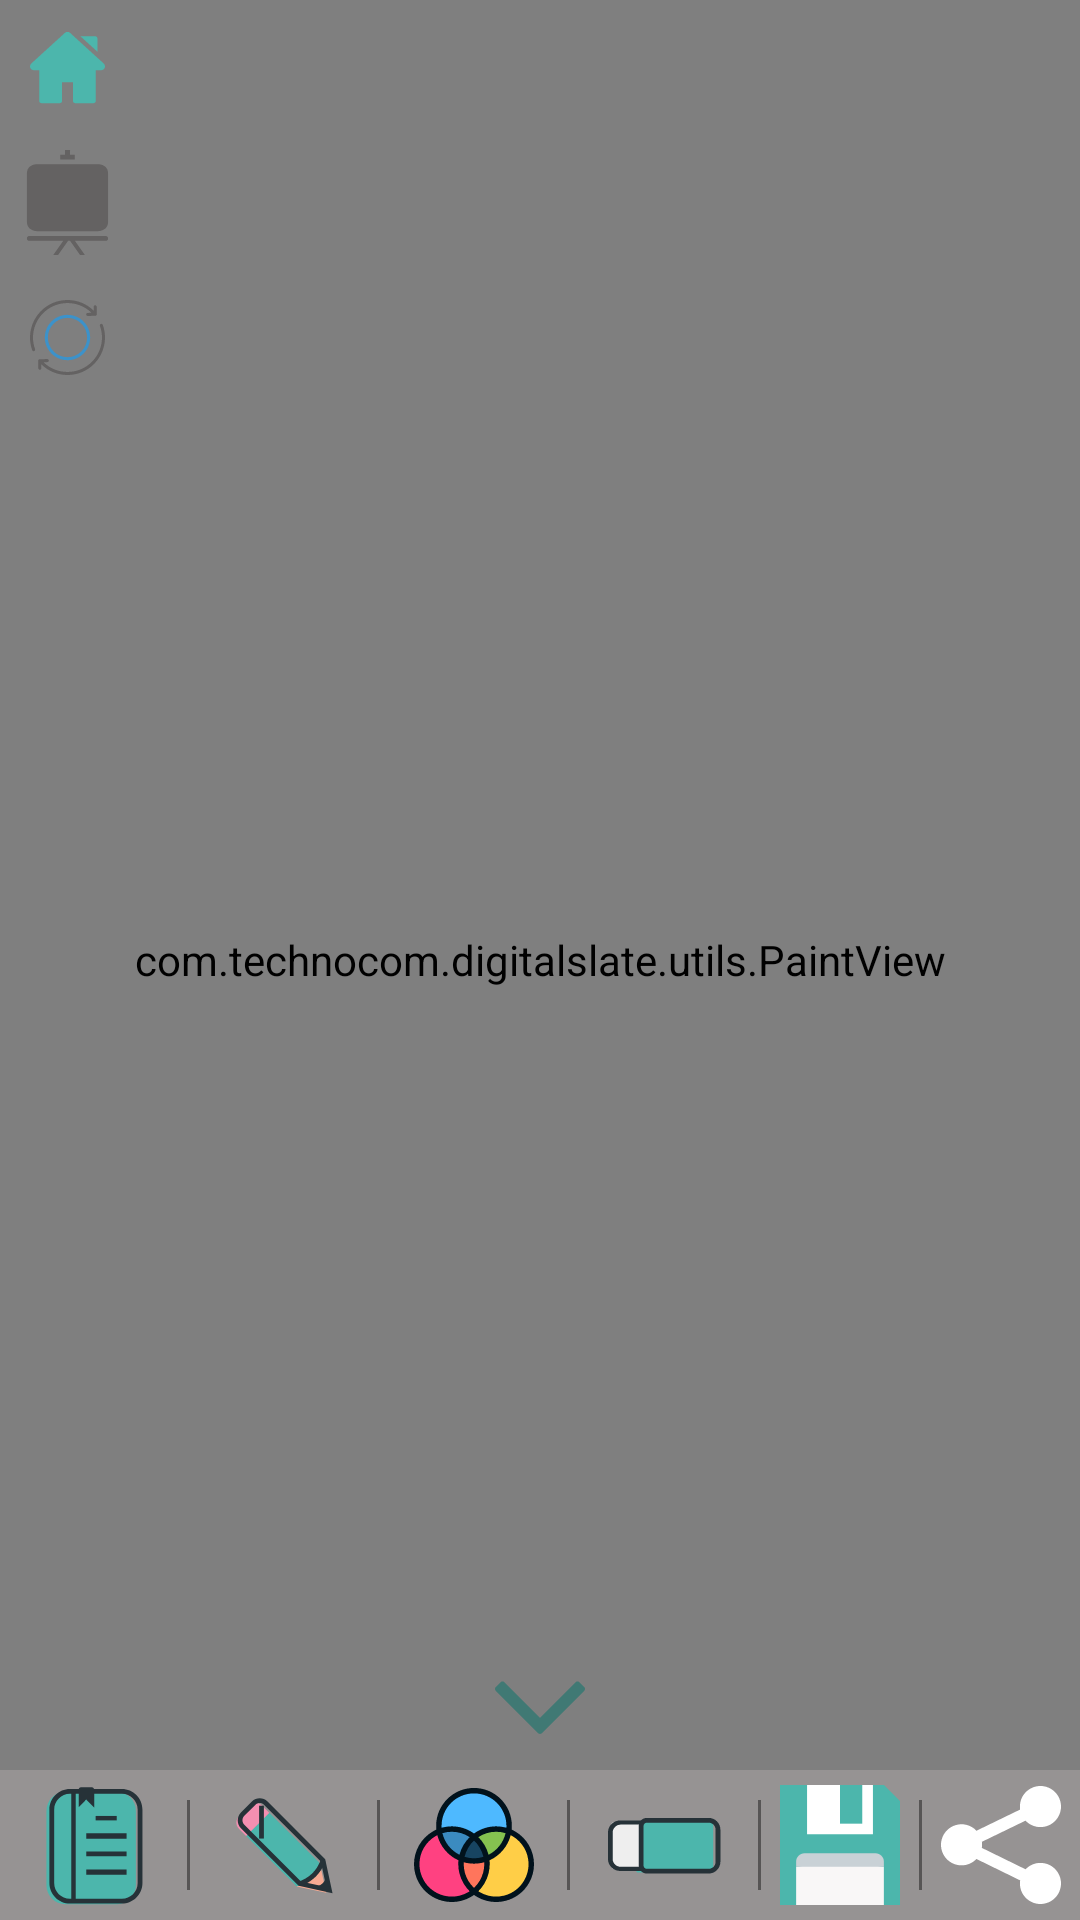

Where to tap for icons on this 1080 × 1920 app screen, as [x,y]:
eraser: [664,1846]
home: [67,67]
orientation: [67,337]
pencil: [284,1845]
save: [840,1845]
share: [1001,1845]
